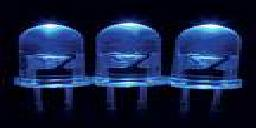LED: (171, 21, 248, 115), (15, 21, 90, 115), (93, 21, 165, 113)
